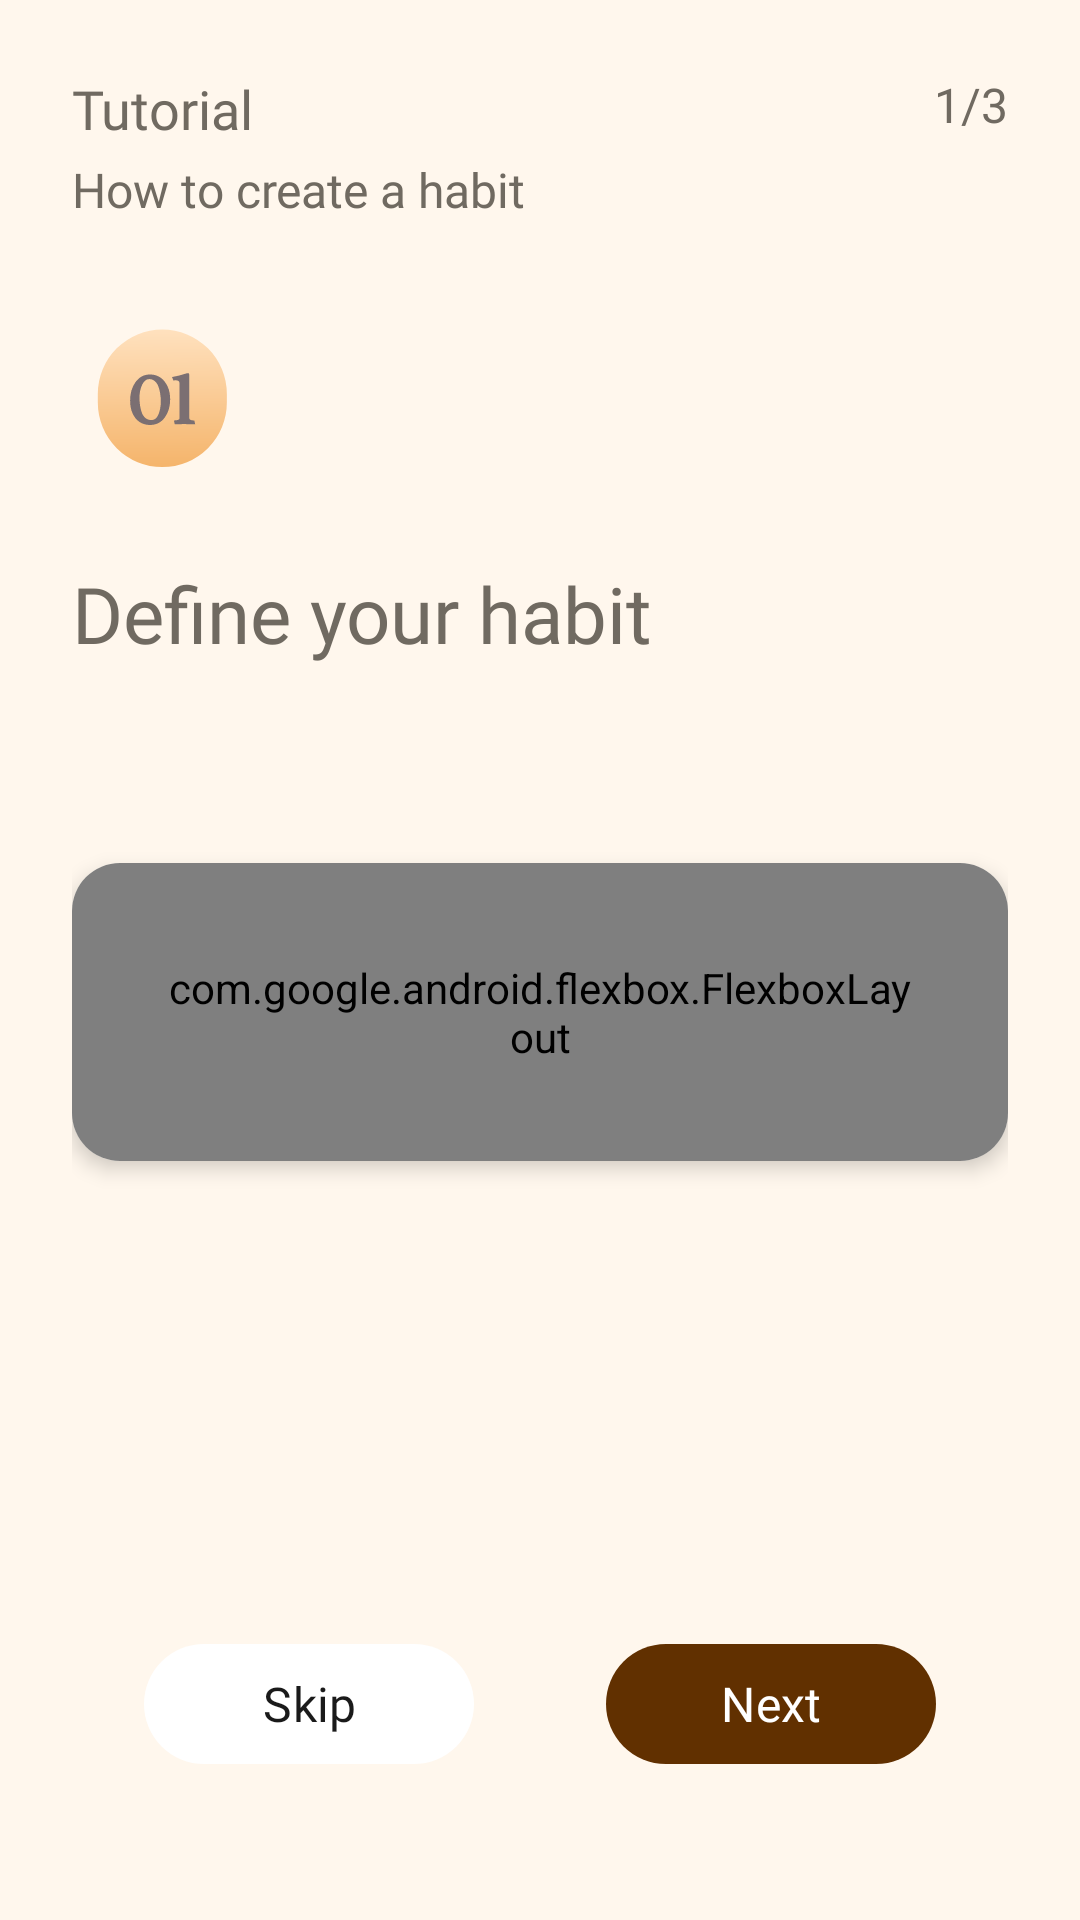

Where to tap for icons on this 1080 × 1920 app screen, as (x=x, y=y):
circle step: (x=162, y=398)
